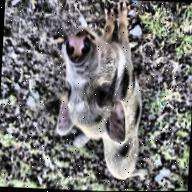boar: (54, 0, 157, 184), (52, 0, 154, 185)
